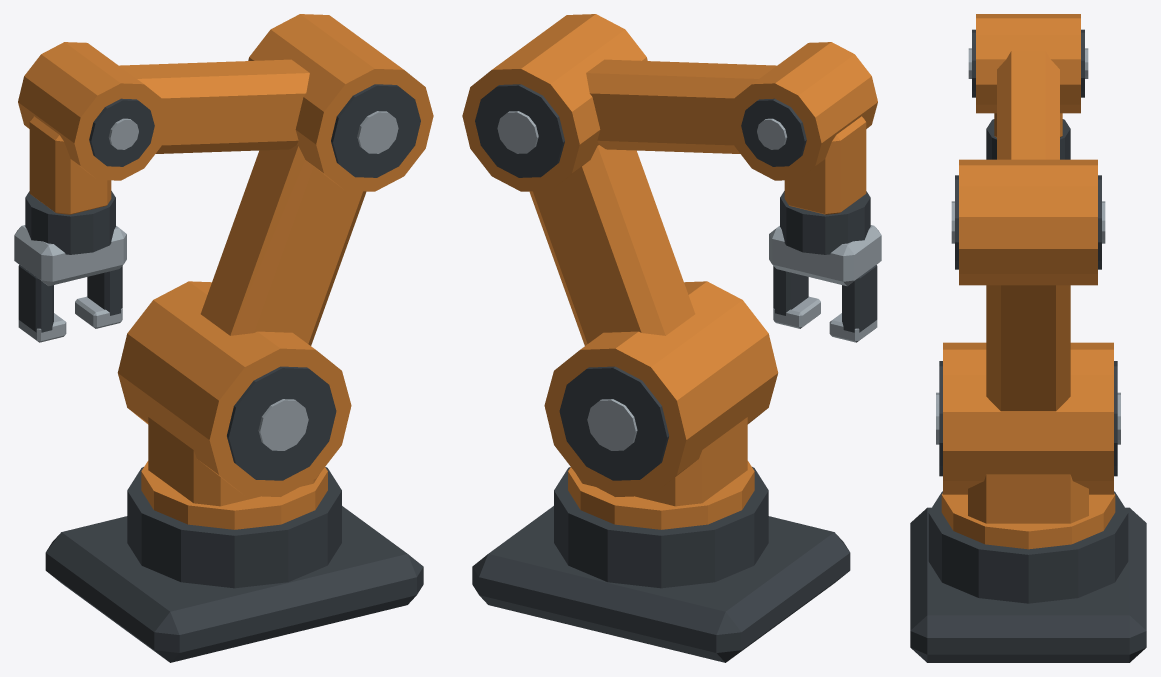
Rendered from NEW_RECOVERY_134_LOD2.glb.
3 views of the same model, side by side, from view 1: azimuth 30°, elevation 25°; view 2: azimuth 150°, elevation 25°; view 3: azimuth 270°, elevation 25° (orthographic). The views are drawn at different scales.
Visible parts, largest first — view 1: RobotArm_Static_Solid; view 2: RobotArm_Static_Solid; view 3: RobotArm_Static_Solid.
Part boxes in pixels (x1,y1,x2,y2): RobotArm_Static_Solid: (14,14,433,662); RobotArm_Static_Solid: (462,14,881,662); RobotArm_Static_Solid: (910,14,1146,662).
Bounding box in the file's own units: 1.51 × 2.21 × 0.9.
